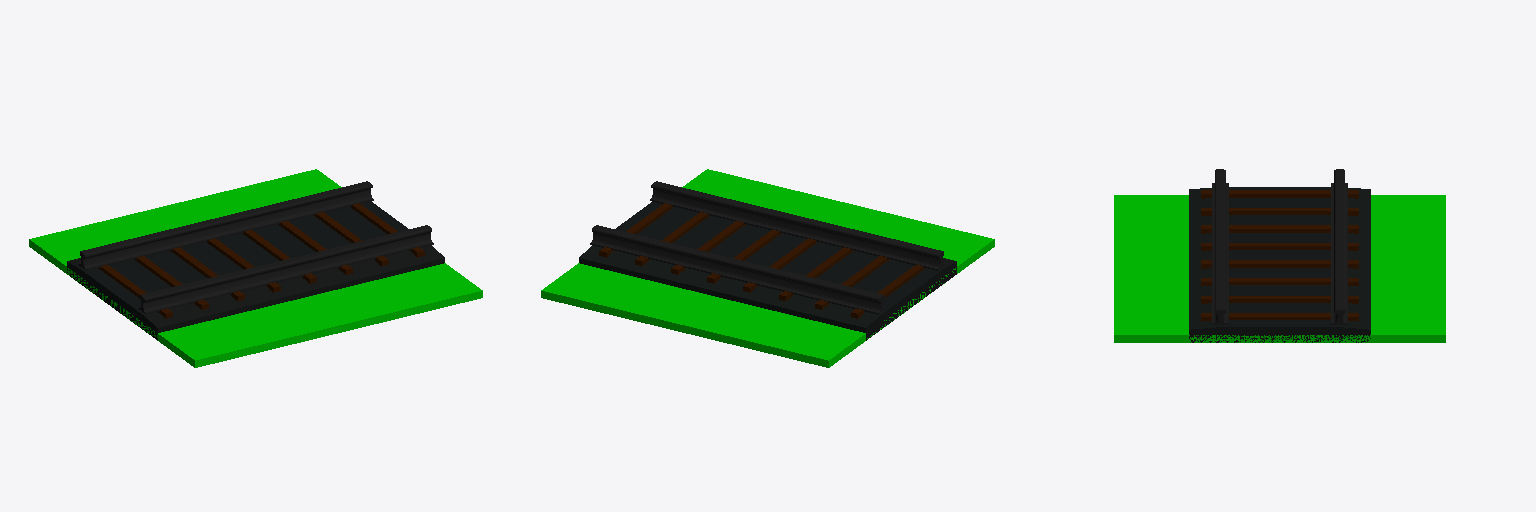
The model's file is rail_droite.obj.
The picture shows the model from 3 angles: view 1: azimuth 30°, elevation 25°; view 2: azimuth 150°, elevation 25°; view 3: azimuth 270°, elevation 25°; orthographic projection.
Visible parts, largest first — view 1: Sol_Herbe, Basalt_Ballast, Rail2.001_Rail, Rail2_Rail; view 2: Sol_Herbe, Basalt_Ballast, Rail2_Rail, Rail2.001_Rail; view 3: Sol_Herbe, Basalt_Ballast, Rail2_Rail, Rail2.001_Rail, Bois2.002_Bois, Bois2_Bois, Bois2.007_Bois, Bois2.005_Bois, Bois2.003_Bois, Bois2.001_Bois, Bois2.006_Bois, Bois2.004_Bois.
Boxes of the visible parts, box(x1,y1,x2,y2) form: Sol_Herbe: box(29, 169, 482, 367); Basalt_Ballast: box(67, 201, 444, 339); Rail2.001_Rail: box(138, 225, 433, 314); Rail2_Rail: box(78, 181, 373, 270); Sol_Herbe: box(541, 169, 994, 367); Basalt_Ballast: box(579, 201, 956, 340); Rail2_Rail: box(590, 225, 885, 314); Rail2.001_Rail: box(650, 181, 945, 270); Sol_Herbe: box(1114, 195, 1445, 342); Basalt_Ballast: box(1189, 187, 1370, 342); Rail2_Rail: box(1331, 169, 1347, 324); Rail2.001_Rail: box(1212, 169, 1228, 324); Bois2.002_Bois: box(1201, 260, 1358, 268); Bois2_Bois: box(1201, 225, 1358, 233); Bois2.007_Bois: box(1201, 190, 1358, 198); Bois2.005_Bois: box(1201, 313, 1358, 321); Bois2.003_Bois: box(1201, 278, 1358, 286); Bois2.001_Bois: box(1201, 243, 1358, 250); Bois2.006_Bois: box(1201, 208, 1358, 215); Bois2.004_Bois: box(1201, 296, 1358, 303).
Bounding box in the file's own units: 4 × 0.435 × 4.